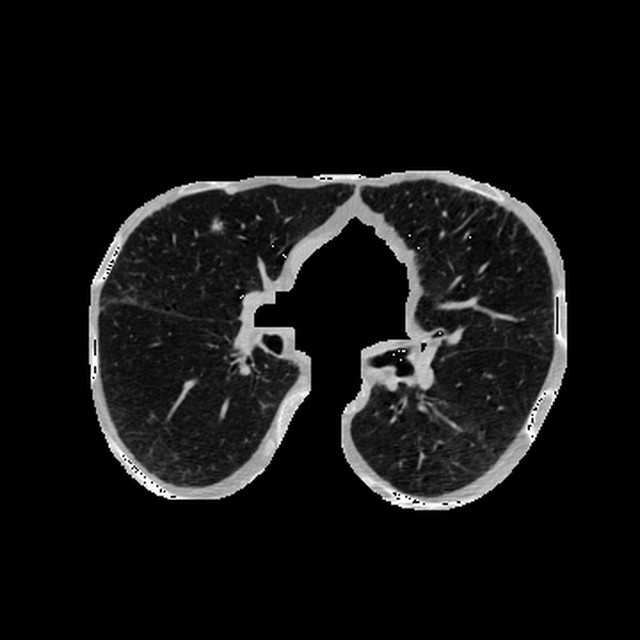PN: (210, 219, 224, 233)
